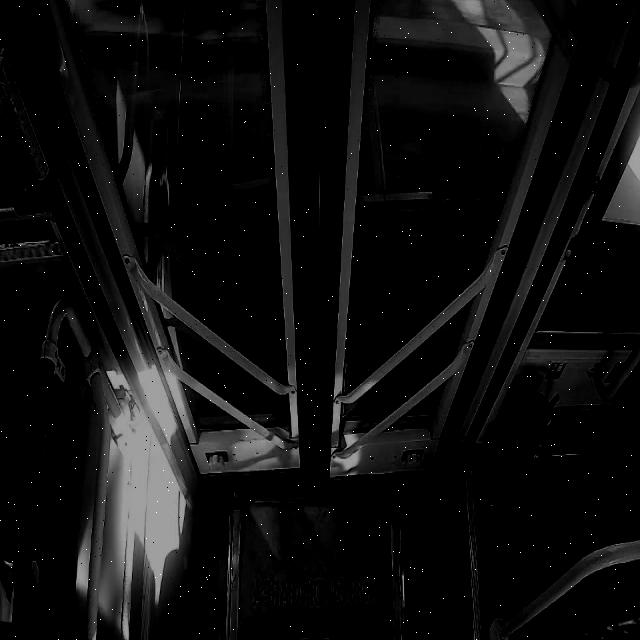close: (63, 3, 565, 489)
